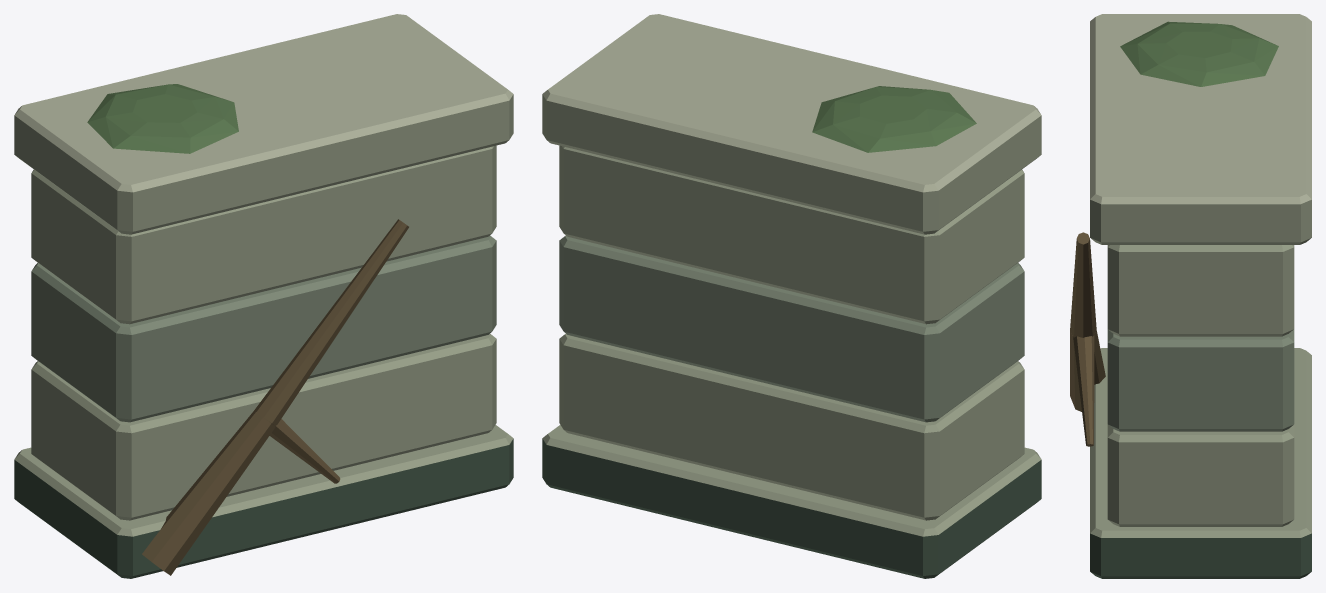
File: wall-short.glb
3 renders of one model, left to right at view 1: azimuth 30°, elevation 25°; view 2: azimuth 150°, elevation 25°; view 3: azimuth 270°, elevation 25°, orthographic. The views are drawn at different scales.
Parts seen in each view (by area): view 1: wall-short__body; view 2: wall-short__body; view 3: wall-short__body.
Boxes of the visible parts, x1,y1,x2,y2 form: wall-short__body: (14, 14, 513, 578); wall-short__body: (542, 14, 1041, 578); wall-short__body: (1070, 14, 1311, 578).
Bounding box in the file's own units: 1 × 0.9855 × 0.545.
